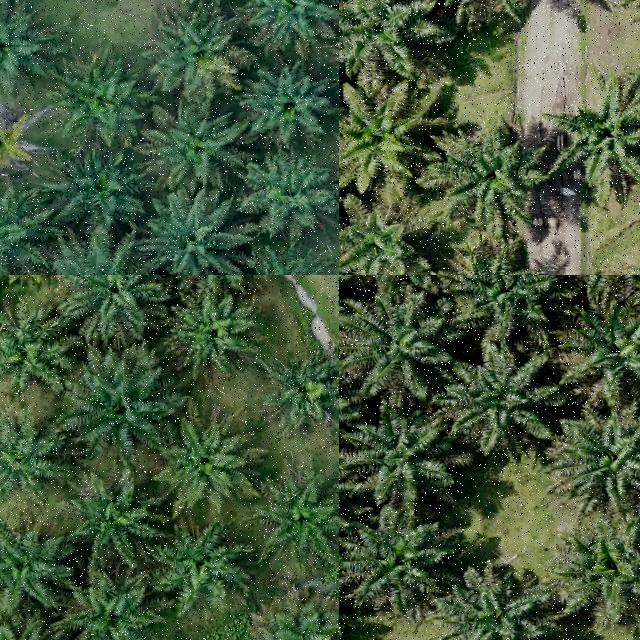Ganoderma: (0, 112, 34, 172)
